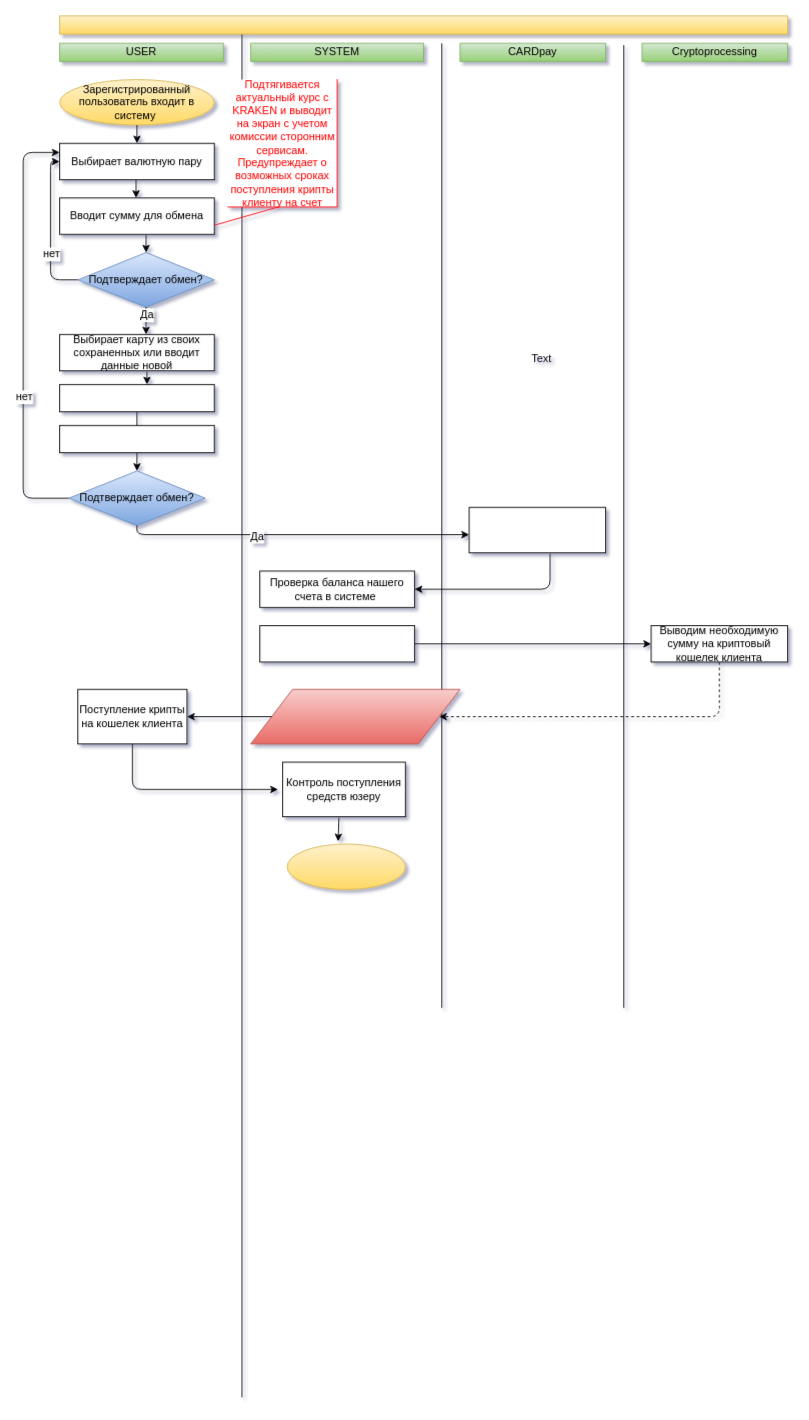
Image size: 809x1420. Some labels were removed from this diagram. Each missing label, with the centre of its shape:
Вводит СVV: the point at 136,398
Водит данные стороннего криптового кошелька: the point at 136,439
Конец процесса: the point at 345,866
Оповещение клиента о возможных сроках поступления криптовалюты: the point at 355,716
Отправка средств клиенту: the point at 337,643
Поступление средств на счет: the point at 537,529
Процесс обмена фиата в крипту (для пар $-BTC, $ - USDT, Euro - BTC): the point at 423,24
